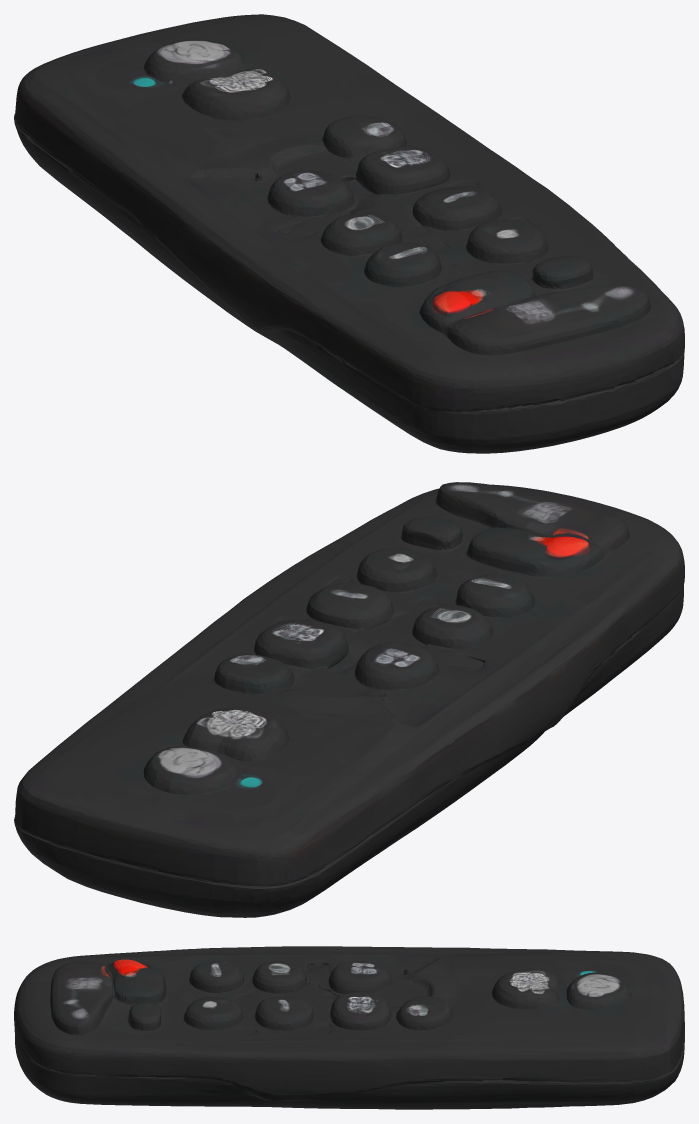
3 renders of one model, top to bottom at view 1: azimuth 30°, elevation 25°; view 2: azimuth 150°, elevation 25°; view 3: azimuth 270°, elevation 25°, orthographic. The views are drawn at different scales.
Visible parts, largest first — view 1: remote_control.obj; view 2: remote_control.obj; view 3: remote_control.obj.
Boxes of the visible parts, bbox=[...] form: remote_control.obj: bbox=[14, 14, 684, 453]; remote_control.obj: bbox=[14, 482, 684, 917]; remote_control.obj: bbox=[14, 946, 684, 1109].
Bounding box in the file's own units: 0.0585 × 0.0215 × 0.147.
1 material, 1 textured.
